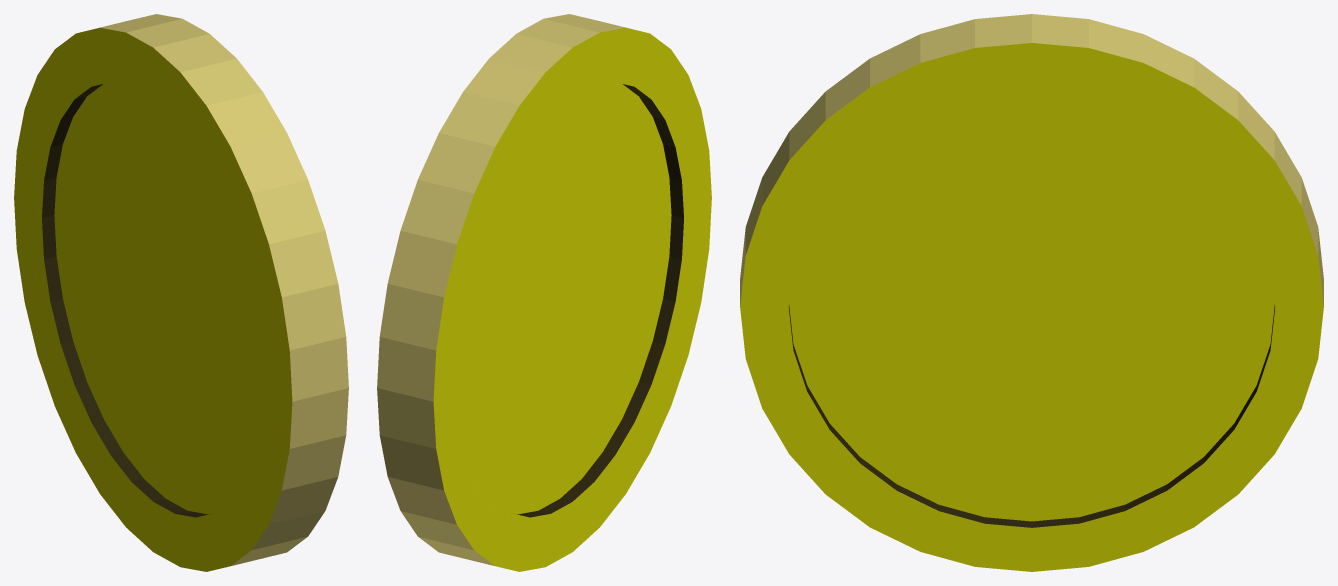
Rendered from Coin.fbx.
3 renders of one model, left to right at view 1: azimuth 30°, elevation 25°; view 2: azimuth 150°, elevation 25°; view 3: azimuth 270°, elevation 25°, orthographic. The views are drawn at different scales.
Visible parts, largest first — view 1: Cylinder; view 2: Cylinder; view 3: Cylinder.
Part boxes in pixels (bbox=[...]): Cylinder: bbox=[14, 14, 348, 571]; Cylinder: bbox=[377, 14, 711, 571]; Cylinder: bbox=[740, 14, 1323, 571].
Size of the model in its own units: 11.25 by 96 by 96.
